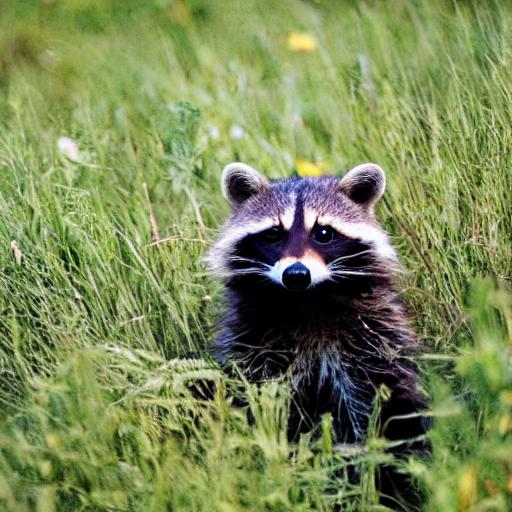raccoon: (190, 154, 446, 512)
